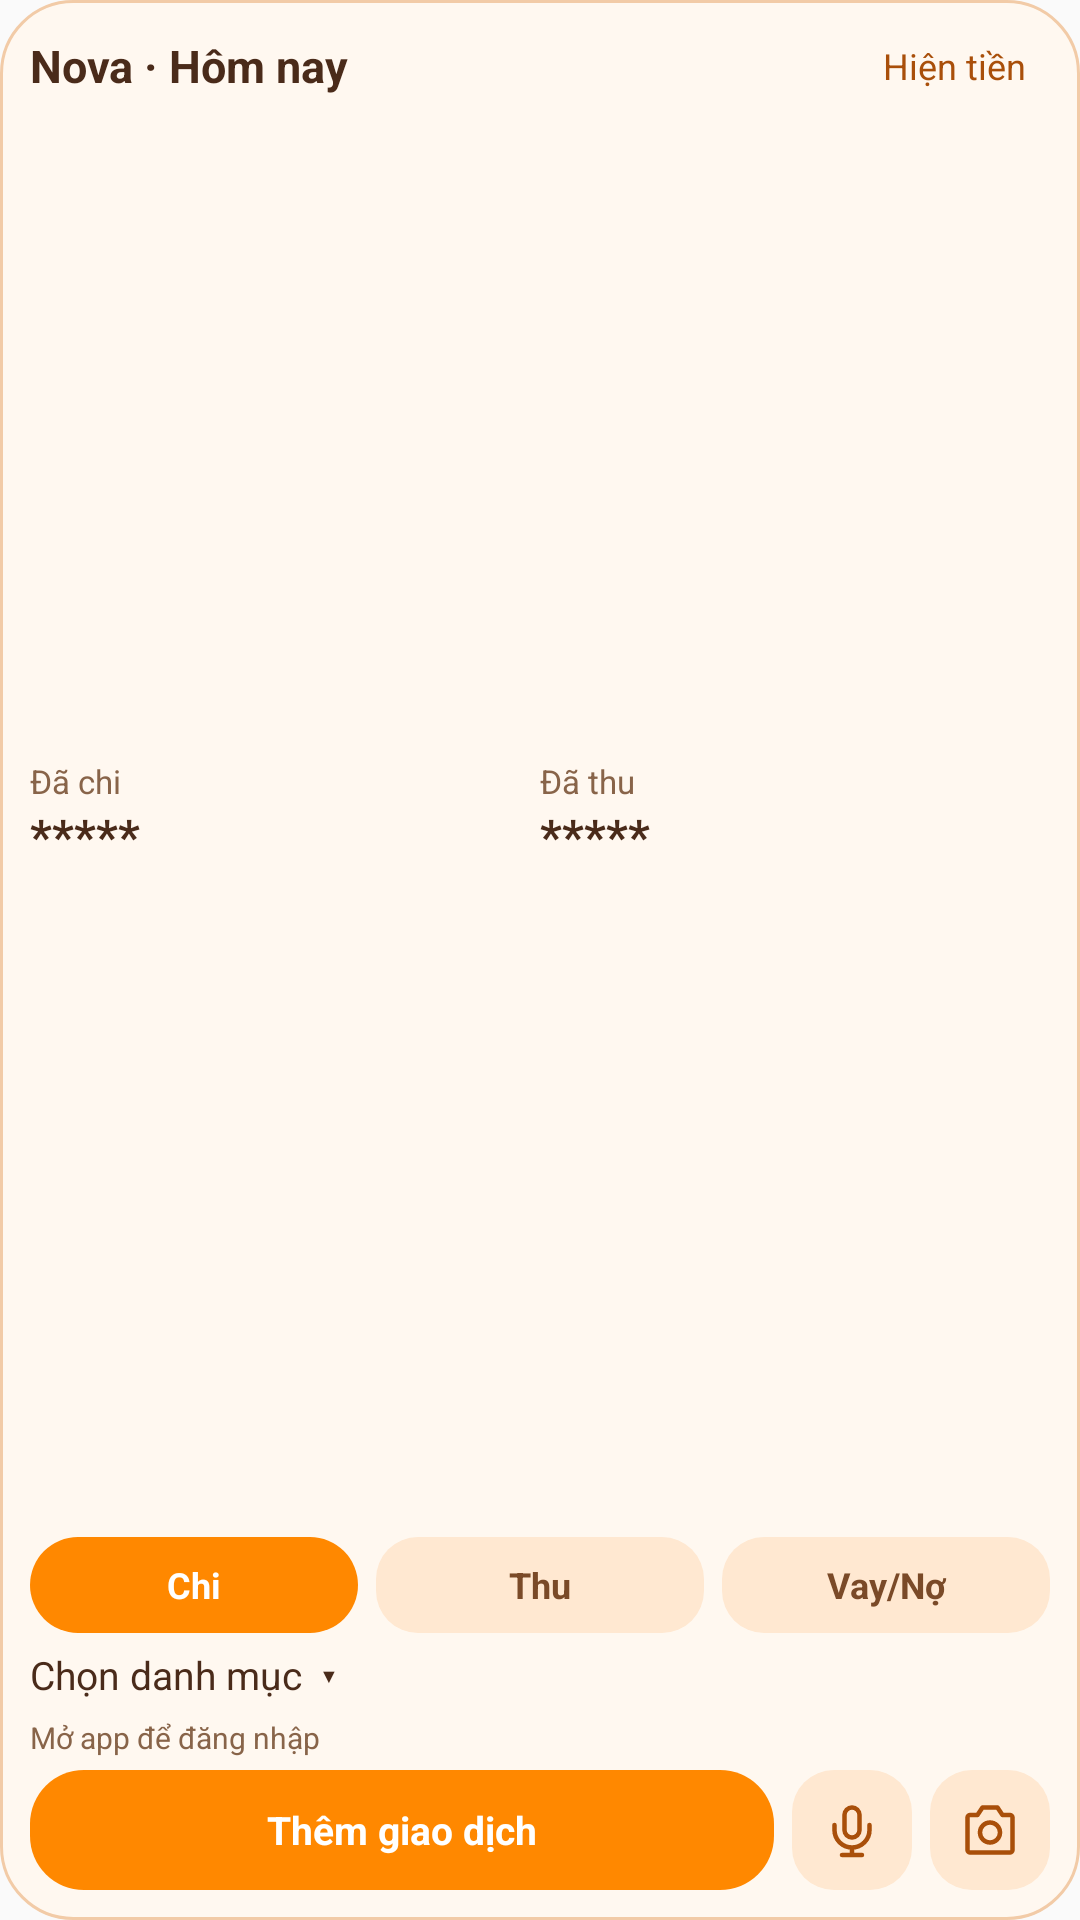

Named icons in this screenshot (1080w x 1920h) and their bounding boxes, bbox(x1, y1, x2, y2):
Chụp hóa đơn bằng AI từ widget: bbox(930, 1770, 1050, 1890)
Nói giao dịch từ widget: bbox(792, 1770, 912, 1890)
